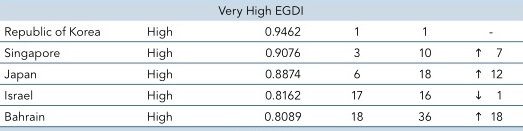column: (4, 1, 100, 131), (218, 1, 303, 131), (148, 2, 172, 131), (418, 1, 433, 131), (489, 1, 503, 131), (351, 1, 364, 131), (475, 1, 482, 131)
row: (1, 27, 523, 39), (1, 48, 523, 60), (1, 6, 523, 17), (1, 70, 523, 81), (1, 92, 523, 102), (1, 112, 523, 121)
